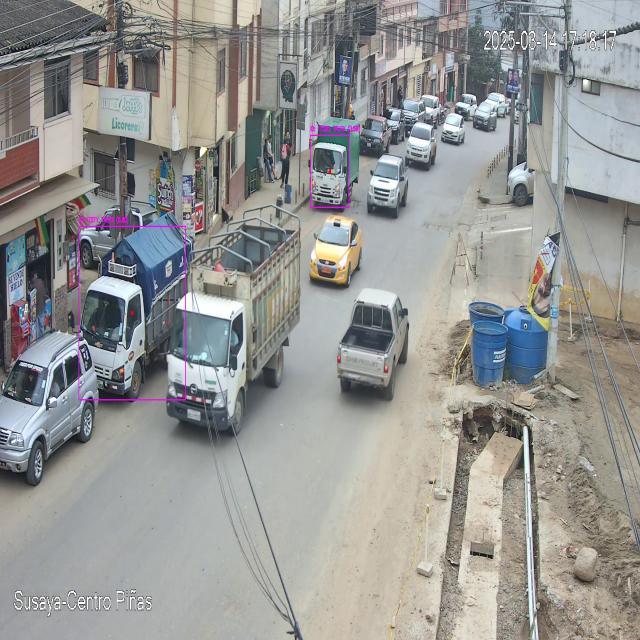CMT: (337, 289, 409, 393)
SUV: (0, 330, 99, 487)
TRUCK: (164, 225, 300, 435)
